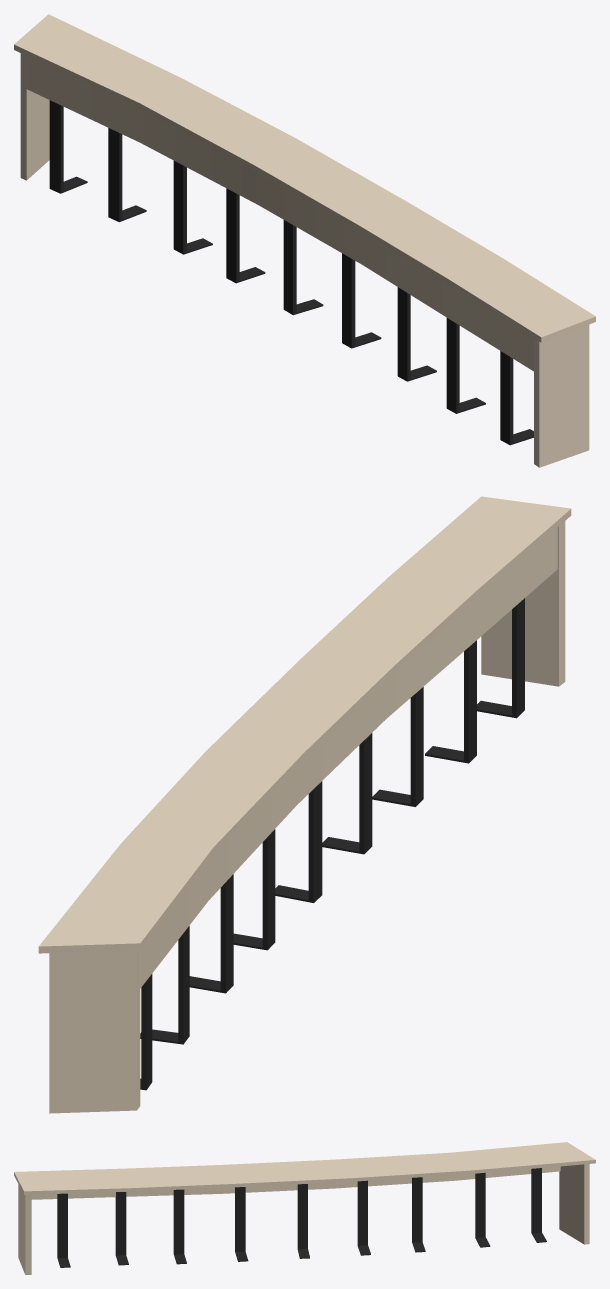
The model's file is AmphiPetitBanc8.fbx.
The picture shows the model from 3 angles, top to bottom: view 1: azimuth 30°, elevation 25°; view 2: azimuth 150°, elevation 25°; view 3: azimuth 270°, elevation 25°; orthographic projection. The views are drawn at different scales.
Parts seen in each view (by area): view 1: polySurface19, polySurface27, polySurface28, polySurface25, polySurface22, polySurface21, polySurface23, polySurface24, polySurface20, polySurface26; view 2: polySurface19, polySurface22, polySurface23, polySurface24, polySurface25, polySurface21, polySurface20, polySurface26, polySurface27, polySurface28; view 3: polySurface19, polySurface24, polySurface25, polySurface20, polySurface28, polySurface21, polySurface23, polySurface27, polySurface22, polySurface26.
Part boxes in pixels (<box>): polySurface19: <box>14,14,595,467</box>; polySurface27: <box>108,128,146,222</box>; polySurface28: <box>49,100,87,193</box>; polySurface25: <box>446,318,485,413</box>; polySurface22: <box>283,220,323,315</box>; polySurface21: <box>226,188,265,283</box>; polySurface23: <box>342,253,381,348</box>; polySurface24: <box>397,287,436,381</box>; polySurface20: <box>173,161,212,254</box>; polySurface26: <box>500,351,533,445</box>; polySurface19: <box>38,496,571,1113</box>; polySurface22: <box>275,781,322,902</box>; polySurface23: <box>322,733,372,854</box>; polySurface24: <box>372,687,423,806</box>; polySurface25: <box>425,640,476,763</box>; polySurface21: <box>233,829,275,950</box>; polySurface20: <box>189,874,233,993</box>; polySurface26: <box>477,598,524,718</box>; polySurface27: <box>140,926,189,1044</box>; polySurface28: <box>140,974,152,1090</box>; polySurface19: <box>14,1142,595,1274</box>; polySurface24: <box>173,1189,186,1264</box>; polySurface25: <box>115,1192,128,1265</box>; polySurface20: <box>412,1177,425,1252</box>; polySurface28: <box>531,1168,546,1242</box>; polySurface21: <box>357,1180,370,1255</box>; polySurface23: <box>235,1187,248,1261</box>; polySurface27: <box>475,1172,490,1247</box>; polySurface22: <box>297,1184,309,1258</box>; polySurface26: <box>57,1193,70,1267</box>.
Bounding box in the file's own units: 28.13 × 22.71 × 140.
